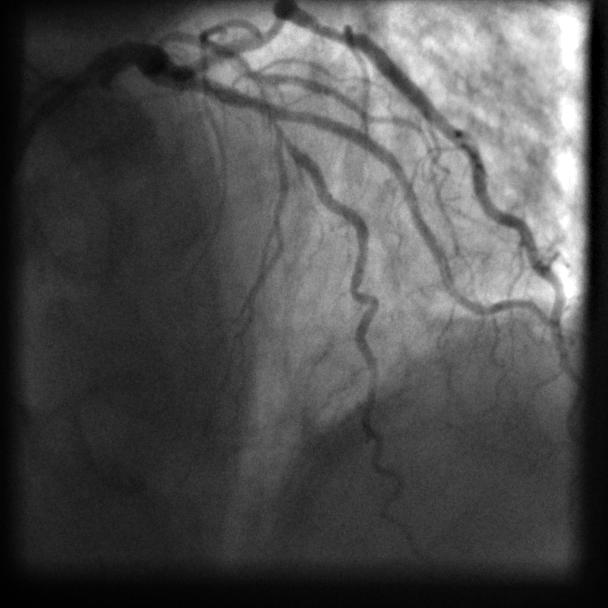Stenosis: (251, 64, 284, 141)
